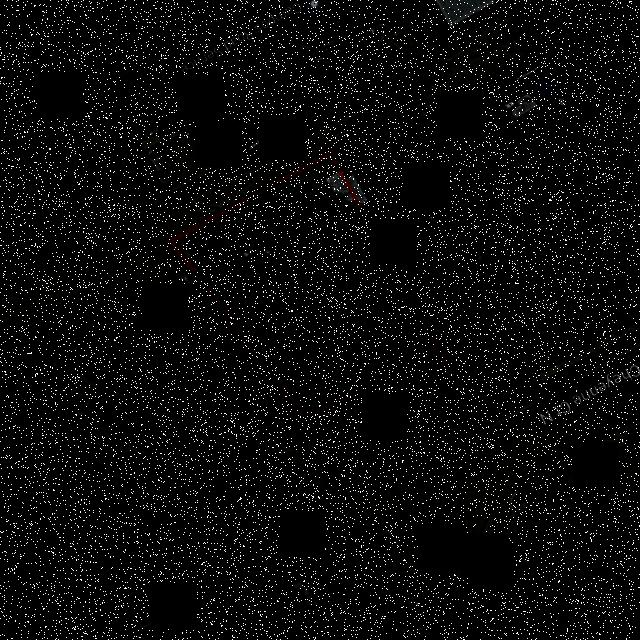Driveway: (238, 159, 341, 263)
Extra Lawn: (383, 413, 481, 435)
Extra Sidewalk: (377, 397, 479, 421)
House: (243, 213, 410, 360)
Other: (326, 172, 356, 209)
